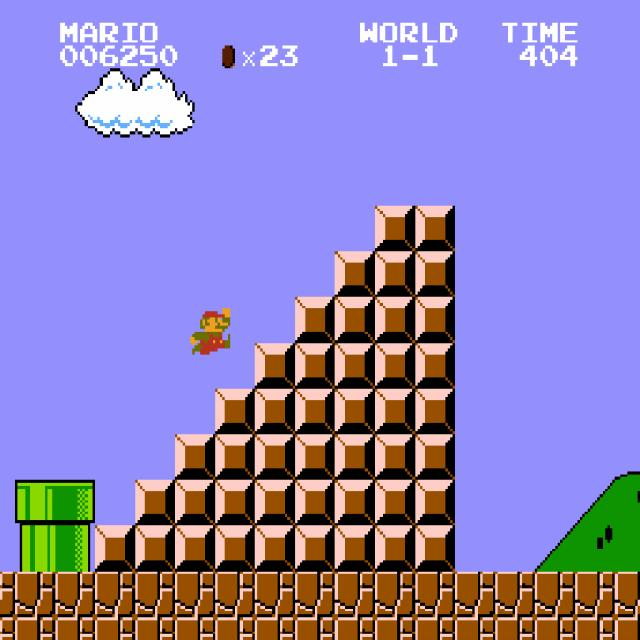hard_block: (135, 480, 175, 526), (175, 434, 215, 480), (175, 480, 215, 526), (215, 434, 255, 480), (215, 480, 255, 526), (255, 434, 295, 480), (255, 480, 295, 526), (295, 297, 335, 343), (295, 434, 335, 480), (295, 480, 335, 526), (335, 297, 375, 343), (335, 434, 375, 480), (335, 480, 375, 526), (375, 297, 415, 343), (375, 434, 415, 480), (375, 480, 415, 526), (415, 297, 455, 343), (415, 434, 455, 480), (415, 480, 455, 526), (95, 526, 135, 571), (135, 526, 175, 571), (175, 526, 215, 571), (215, 389, 255, 434), (215, 526, 255, 571), (255, 343, 295, 388), (255, 389, 295, 434), (255, 526, 295, 571), (295, 343, 335, 388), (295, 389, 335, 434), (295, 526, 335, 571), (335, 252, 375, 297), (335, 343, 375, 388), (335, 389, 375, 434), (335, 526, 375, 571), (375, 206, 415, 251), (375, 252, 415, 297), (375, 343, 415, 388), (375, 389, 415, 434), (375, 526, 415, 571), (415, 206, 455, 251), (415, 252, 455, 297), (415, 343, 455, 388), (415, 389, 455, 434), (415, 526, 455, 571)
little_mario: (188, 306, 230, 354)
pipe: (15, 526, 55, 571), (55, 526, 95, 571)
pipe_head: (15, 480, 55, 526), (55, 480, 95, 526)
undestructible_block: (15, 572, 55, 617), (55, 572, 95, 617), (95, 572, 135, 617), (135, 572, 175, 617), (175, 572, 215, 617), (215, 572, 255, 617), (255, 572, 295, 617), (295, 572, 335, 617), (335, 572, 375, 617), (375, 572, 415, 617), (415, 572, 455, 617), (455, 572, 495, 617), (495, 572, 535, 617), (535, 572, 575, 617), (575, 572, 615, 617), (614, 571, 640, 617), (15, 617, 55, 640), (55, 617, 95, 640), (95, 617, 135, 640), (135, 617, 175, 640), (175, 617, 215, 640), (215, 617, 255, 640), (255, 617, 295, 640), (295, 617, 335, 640), (335, 617, 375, 640), (375, 617, 415, 640), (415, 617, 455, 640), (455, 617, 495, 640), (495, 617, 535, 640), (535, 617, 575, 640), (575, 617, 615, 640), (0, 572, 15, 617), (614, 617, 640, 639), (0, 617, 15, 640)
